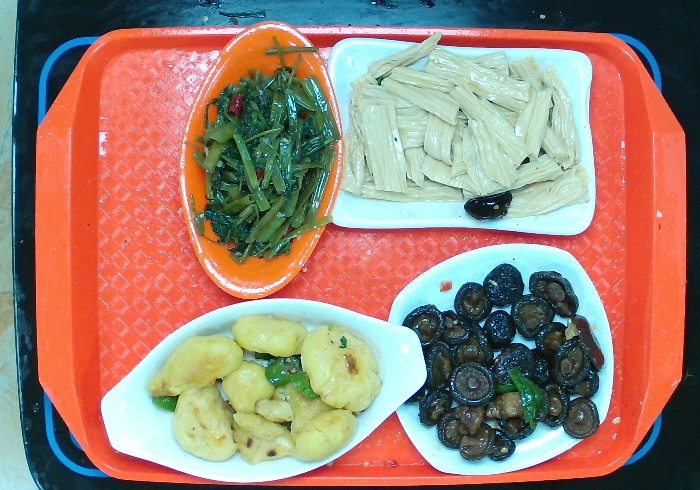RJxy-Ju_Huang_Tuo_Yuan: (174, 21, 345, 298)
RJxy-Si_Fang_Ao_Bian_Wan: (323, 36, 601, 243)
RJxy-Si_Fang_Die: (386, 243, 619, 478)
RJxy-Yu_Pan: (100, 295, 428, 484)
